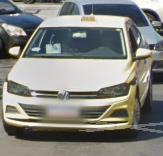car: (2, 14, 155, 140)
